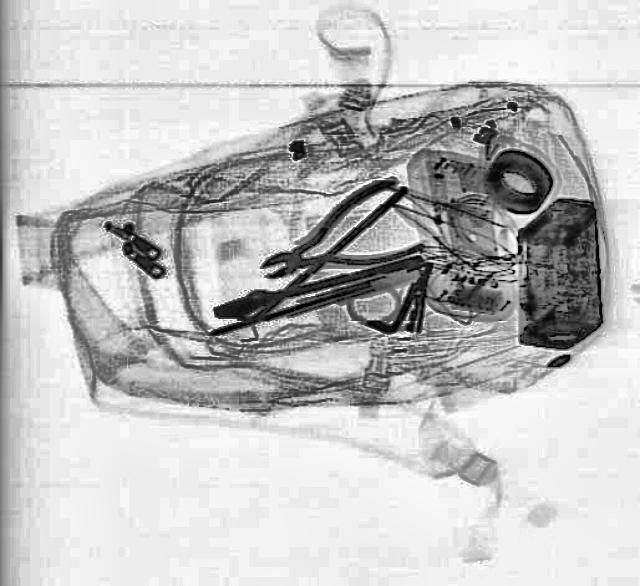Pliers: (244, 175, 431, 304)
